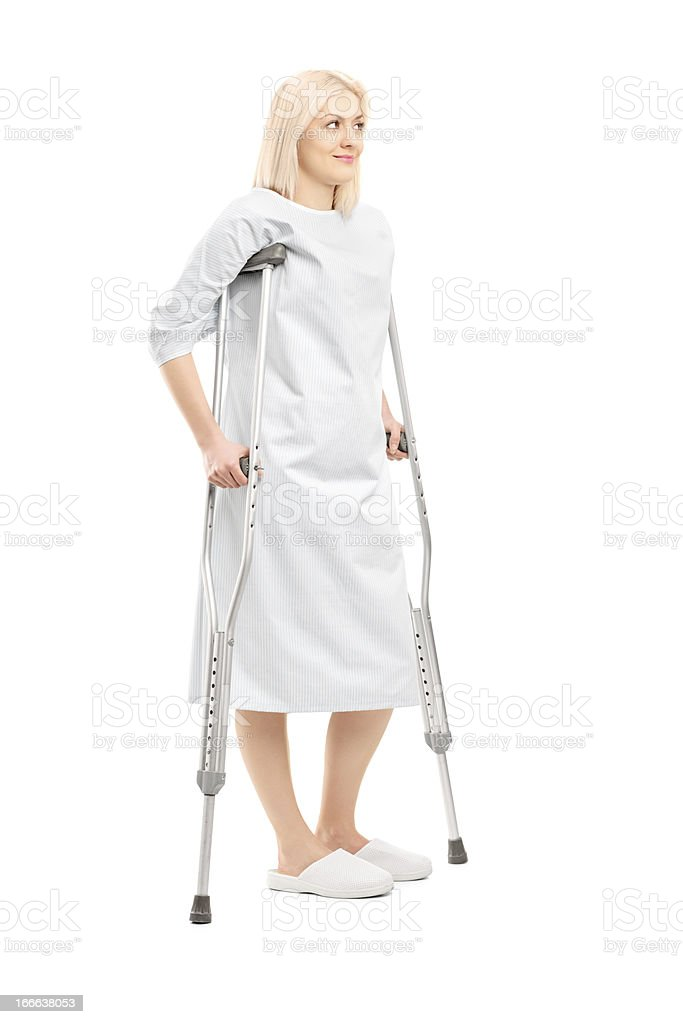crutches: (148, 68, 470, 925)
